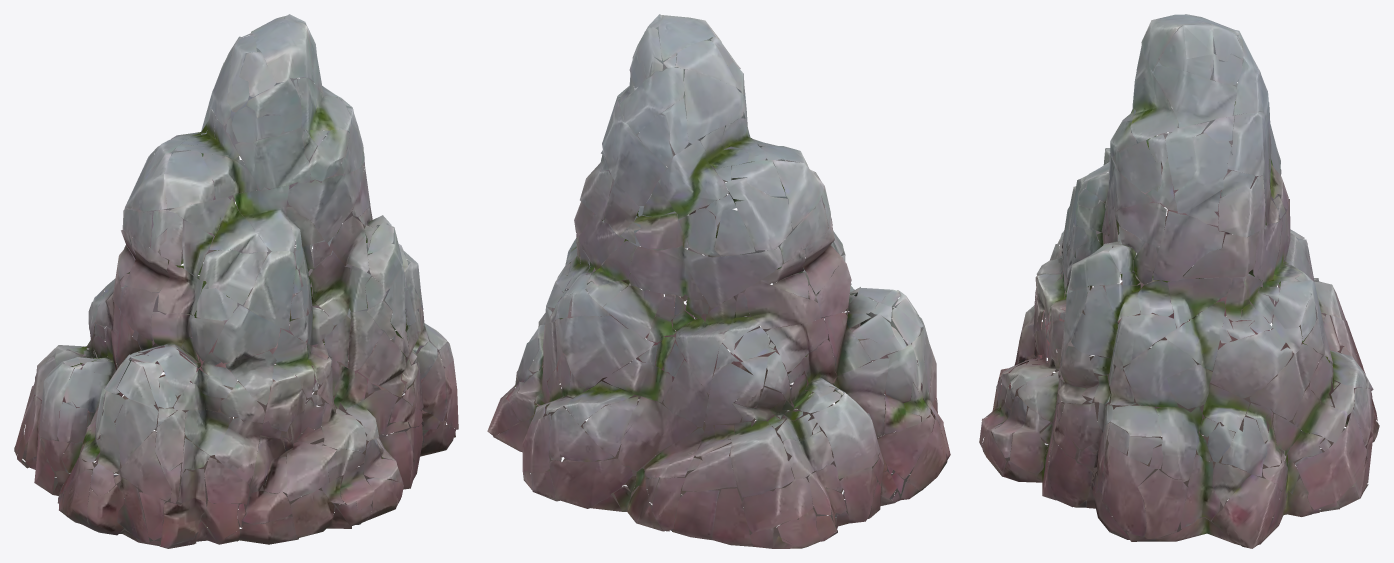
File: crags.glb
The picture shows the model from 3 angles, left to right: view 1: azimuth 30°, elevation 25°; view 2: azimuth 150°, elevation 25°; view 3: azimuth 270°, elevation 25°; orthographic projection. The views are drawn at different scales.
Visible parts, largest first — view 1: Mesh_0; view 2: Mesh_0; view 3: Mesh_0.
Part boxes in pixels (x1,y1,x2,y2): Mesh_0: (14,14,458,548); Mesh_0: (487,14,950,548); Mesh_0: (979,14,1379,548).
Size of the model in its own units: 5.85 by 6.01 by 4.82.
Materials: 1 (1 with a texture image).
